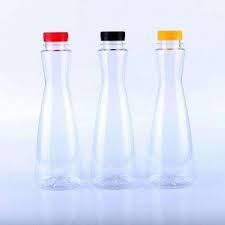BIODEGRADABLE: (25, 28, 86, 190), (144, 31, 199, 191), (92, 29, 138, 193)
